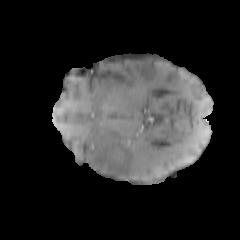glioma: (85, 134, 193, 181)
